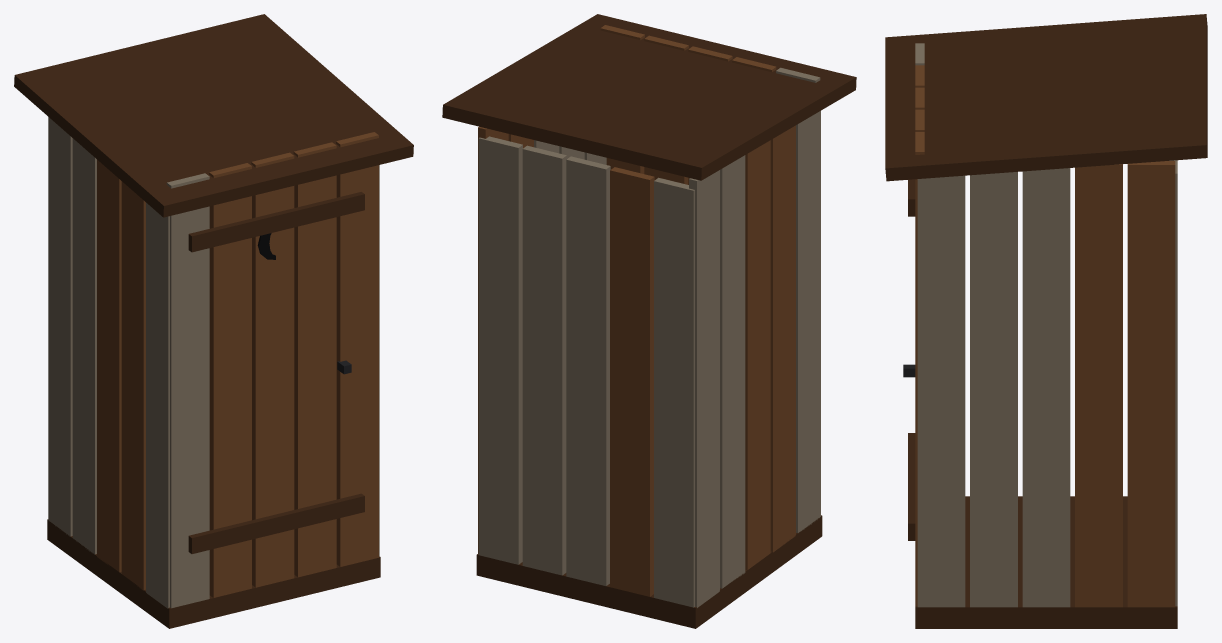
The model's file is SM_Outhouse.obj.
3 views of the same model, side by side, from view 1: azimuth 30°, elevation 25°; view 2: azimuth 150°, elevation 25°; view 3: azimuth 270°, elevation 25° (orthographic). The views are drawn at different scales.
Parts seen in each view (by area): view 1: SM_Outhouse; view 2: SM_Outhouse; view 3: SM_Outhouse.
Part boxes in pixels (x1,y1,x2,y2): SM_Outhouse: [14, 14, 413, 628]; SM_Outhouse: [442, 14, 856, 628]; SM_Outhouse: [885, 14, 1207, 628].
Size of the model in its own units: 1.3 by 2.28 by 1.35.
